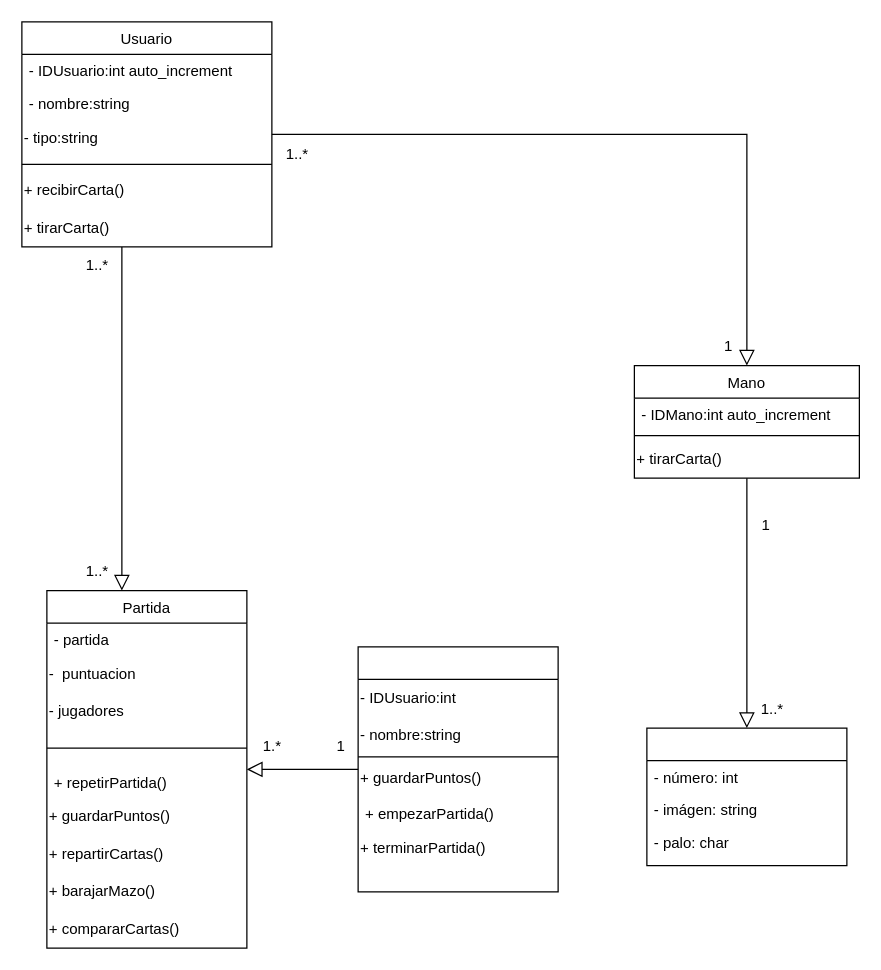
Image size: 881x970. Some labels were removed from this diagram. Here are the shapes that lost their labels. From the top down, the box of each, then its label:
(357, 646, 558, 892): Adminstrador
(646, 727, 847, 866): Cartas
